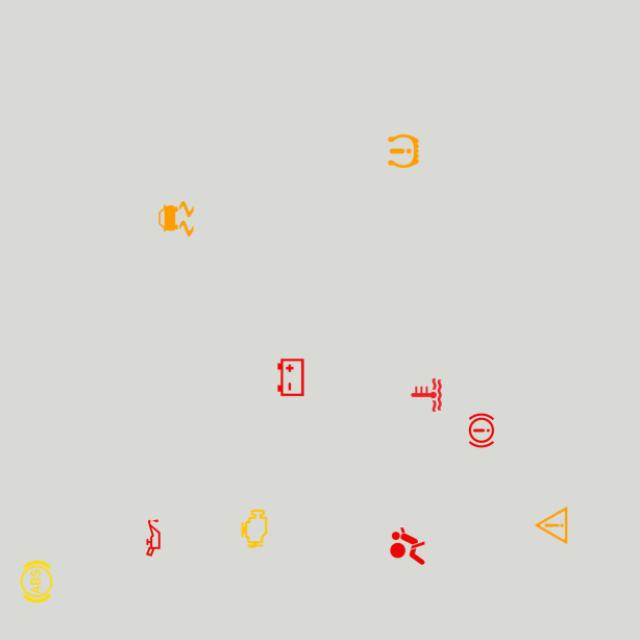Anti Lock Braking System: (14, 558, 59, 604)
Braking System Issue: (458, 408, 504, 453)
Charging System Issue: (268, 354, 314, 400)
Check Engine: (232, 506, 278, 552)
Electronic Stability Problem -ESP-: (153, 196, 199, 242)
Engine Overheating Warning Light: (404, 372, 449, 418)
Low Engine Oil Warning Light: (130, 515, 176, 561)
Low Tire Pressure Warning Light: (381, 128, 426, 174)
Master warning light: (528, 502, 574, 548)
SRS-Airbag: (384, 523, 430, 569)
